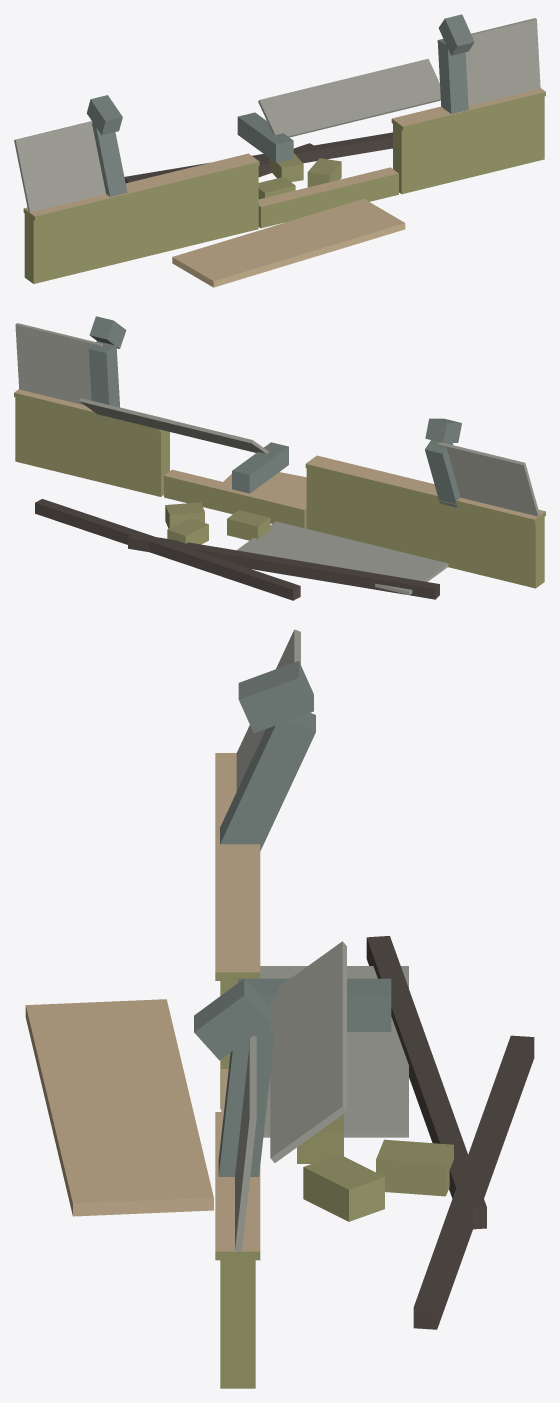
File: SM_VallaBetera_MuroBajo_e3_MuyDanada_LOD1.fbx
3 views of the same model, one above another, from view 1: azimuth 30°, elevation 25°; view 2: azimuth 150°, elevation 25°; view 3: azimuth 270°, elevation 25° (orthographic). The views are drawn at different scales.
Visible parts, largest first — view 1: SM_valla_estados_v8_LOD1; view 2: SM_valla_estados_v8_LOD1; view 3: SM_valla_estados_v8_LOD1.
Part boxes in pixels (bbox=[...]): SM_valla_estados_v8_LOD1: bbox=[14, 14, 545, 287]; SM_valla_estados_v8_LOD1: bbox=[14, 316, 545, 600]; SM_valla_estados_v8_LOD1: bbox=[25, 629, 534, 1388].
Size of the model in its own units: 10 by 3.02 by 4.31.
